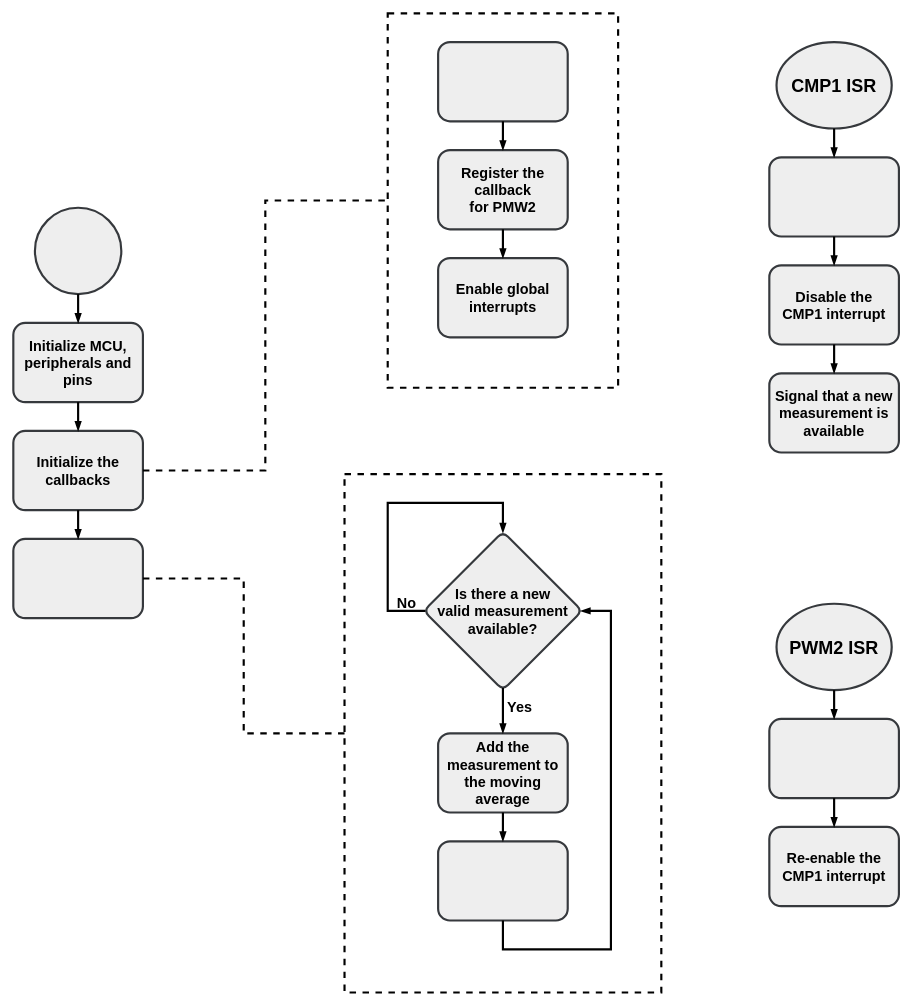
The diagram is 912 pixels wide and 1006 high, and some of its shapes have lost their labels. Each missing label, with the box of its shape:
Capture the counter value of TU16A: (768, 156, 900, 237)
Clear the CMP1 interrupt flag: (768, 717, 900, 799)
Compute the current mean distance and print it: (437, 840, 568, 921)
Main application loop: (12, 537, 144, 619)
Register the callback for CMP1: (437, 41, 568, 122)
START: (33, 206, 122, 295)
